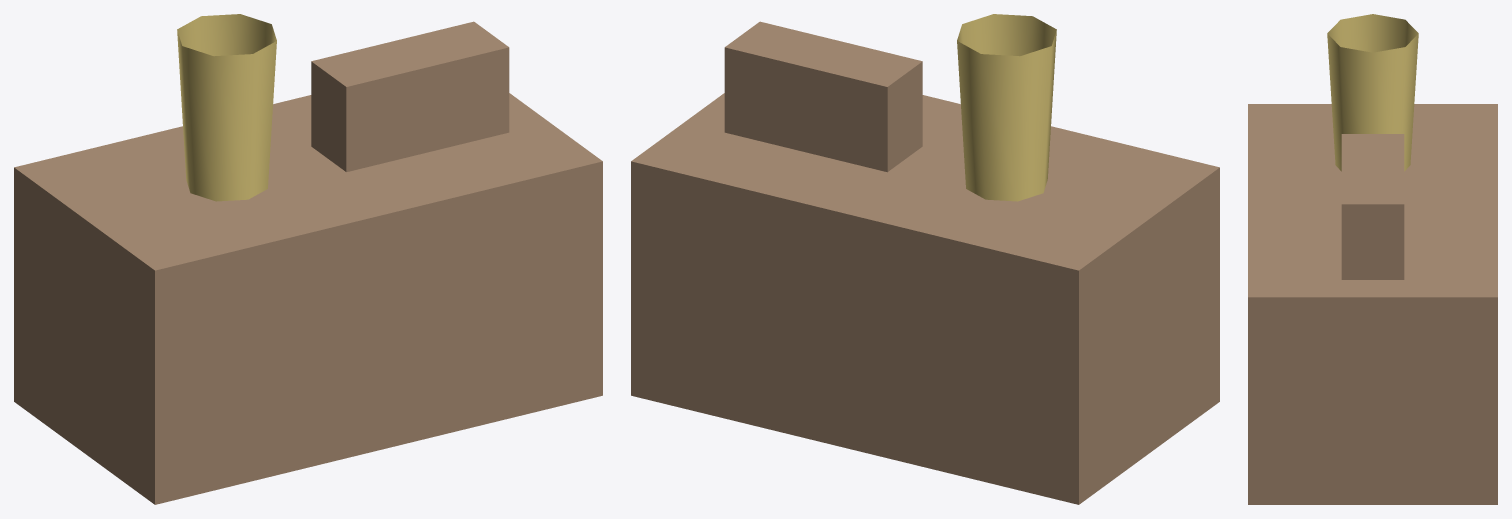
The model's file is tea_stall.glb.
The picture shows the model from 3 angles, left to right: view 1: azimuth 30°, elevation 25°; view 2: azimuth 150°, elevation 25°; view 3: azimuth 270°, elevation 25°; orthographic projection. The views are drawn at different scales.
Visible parts, largest first — view 1: Counter_Node, GlassRack_Node, Samovar_Node; view 2: Counter_Node, GlassRack_Node, Samovar_Node; view 3: Counter_Node, Samovar_Node, GlassRack_Node.
Boxes of the visible parts, x1,y1,x2,y2 form: Counter_Node: (14,93,602,504); GlassRack_Node: (311,21,509,172); Samovar_Node: (177,14,276,201); Counter_Node: (631,93,1219,504); GlassRack_Node: (724,21,922,172); Samovar_Node: (957,14,1056,201); Counter_Node: (1248,104,1497,504); Samovar_Node: (1327,14,1418,171); GlassRack_Node: (1341,134,1404,279).
Bounding box in the file's own units: 2.2 × 1.8 × 1.2.
